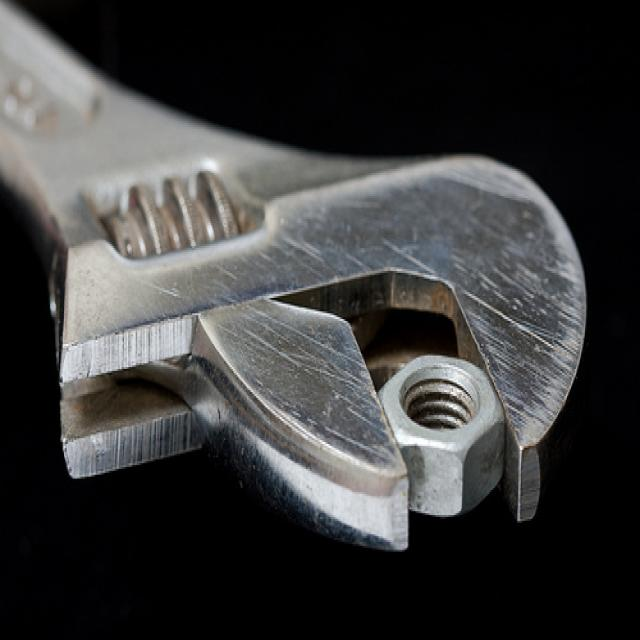wrench: (0, 0, 607, 574)
